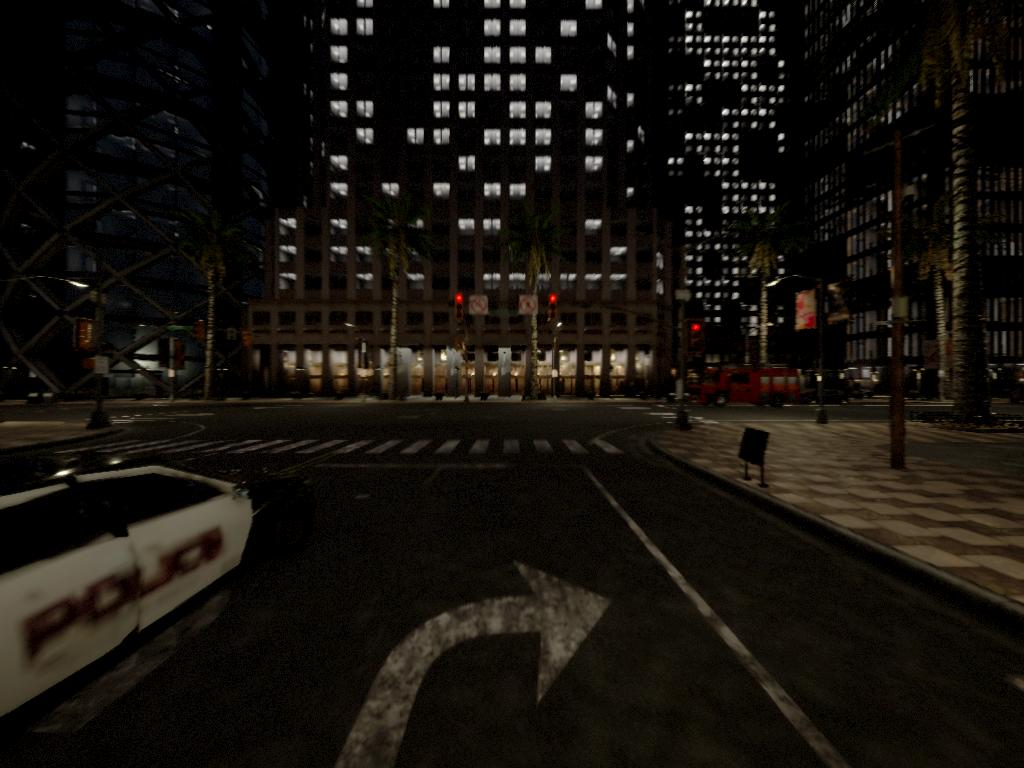traffic_light: (690, 322, 709, 351), (547, 292, 560, 319), (453, 292, 466, 311)
